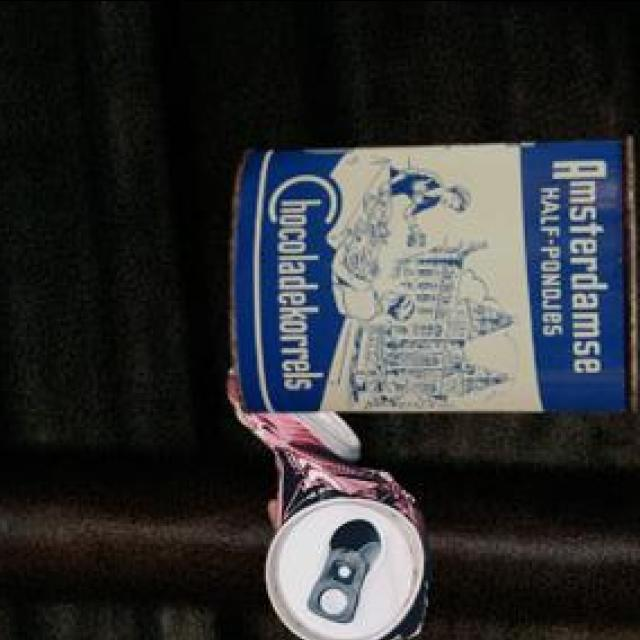logam: (226, 139, 632, 416), (224, 372, 427, 640)
